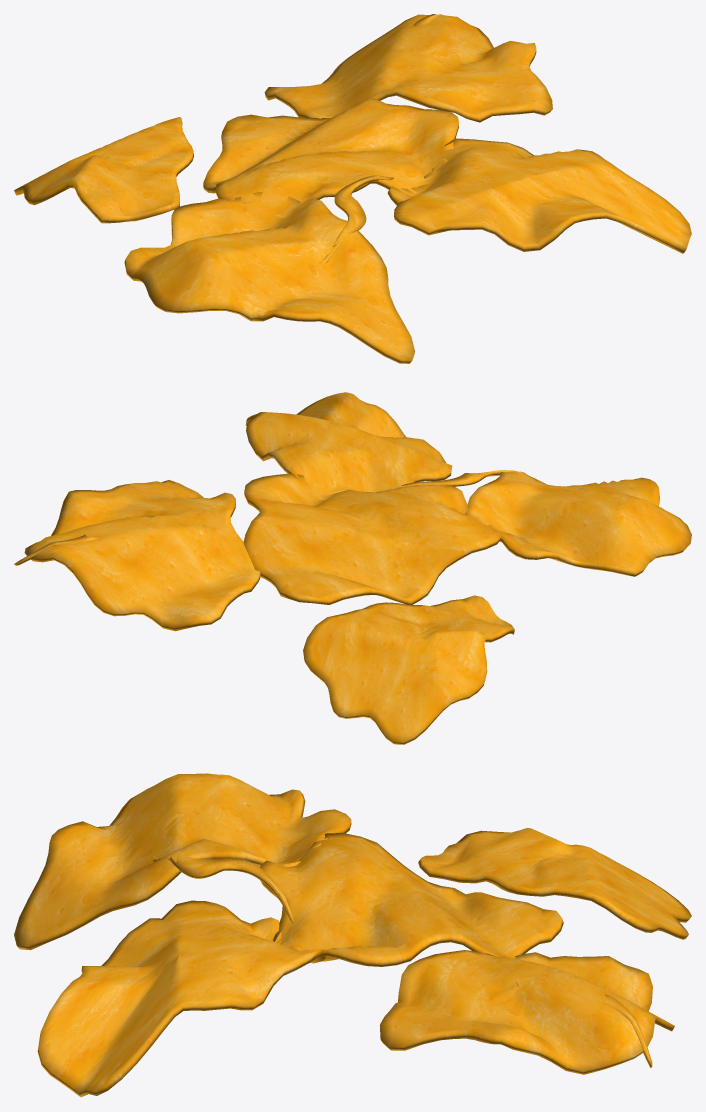
The model's file is sides-cheese-chili-large.glb.
The picture shows the model from 3 angles, top to bottom: view 1: azimuth 30°, elevation 25°; view 2: azimuth 150°, elevation 25°; view 3: azimuth 270°, elevation 25°; orthographic projection. The views are drawn at different scales.
Visible parts, largest first — view 1: Irregular melted cheddar pool 0; view 2: Irregular melted cheddar pool 0; view 3: Irregular melted cheddar pool 0.
Boxes of the visible parts, x1,y1,x2,y2 form: Irregular melted cheddar pool 0: (14, 14, 691, 363); Irregular melted cheddar pool 0: (14, 392, 691, 744); Irregular melted cheddar pool 0: (14, 773, 691, 1097).
Bounding box in the file's own units: 1.77 × 0.3587 × 1.75.
Materials: 1 (1 with a texture image).
